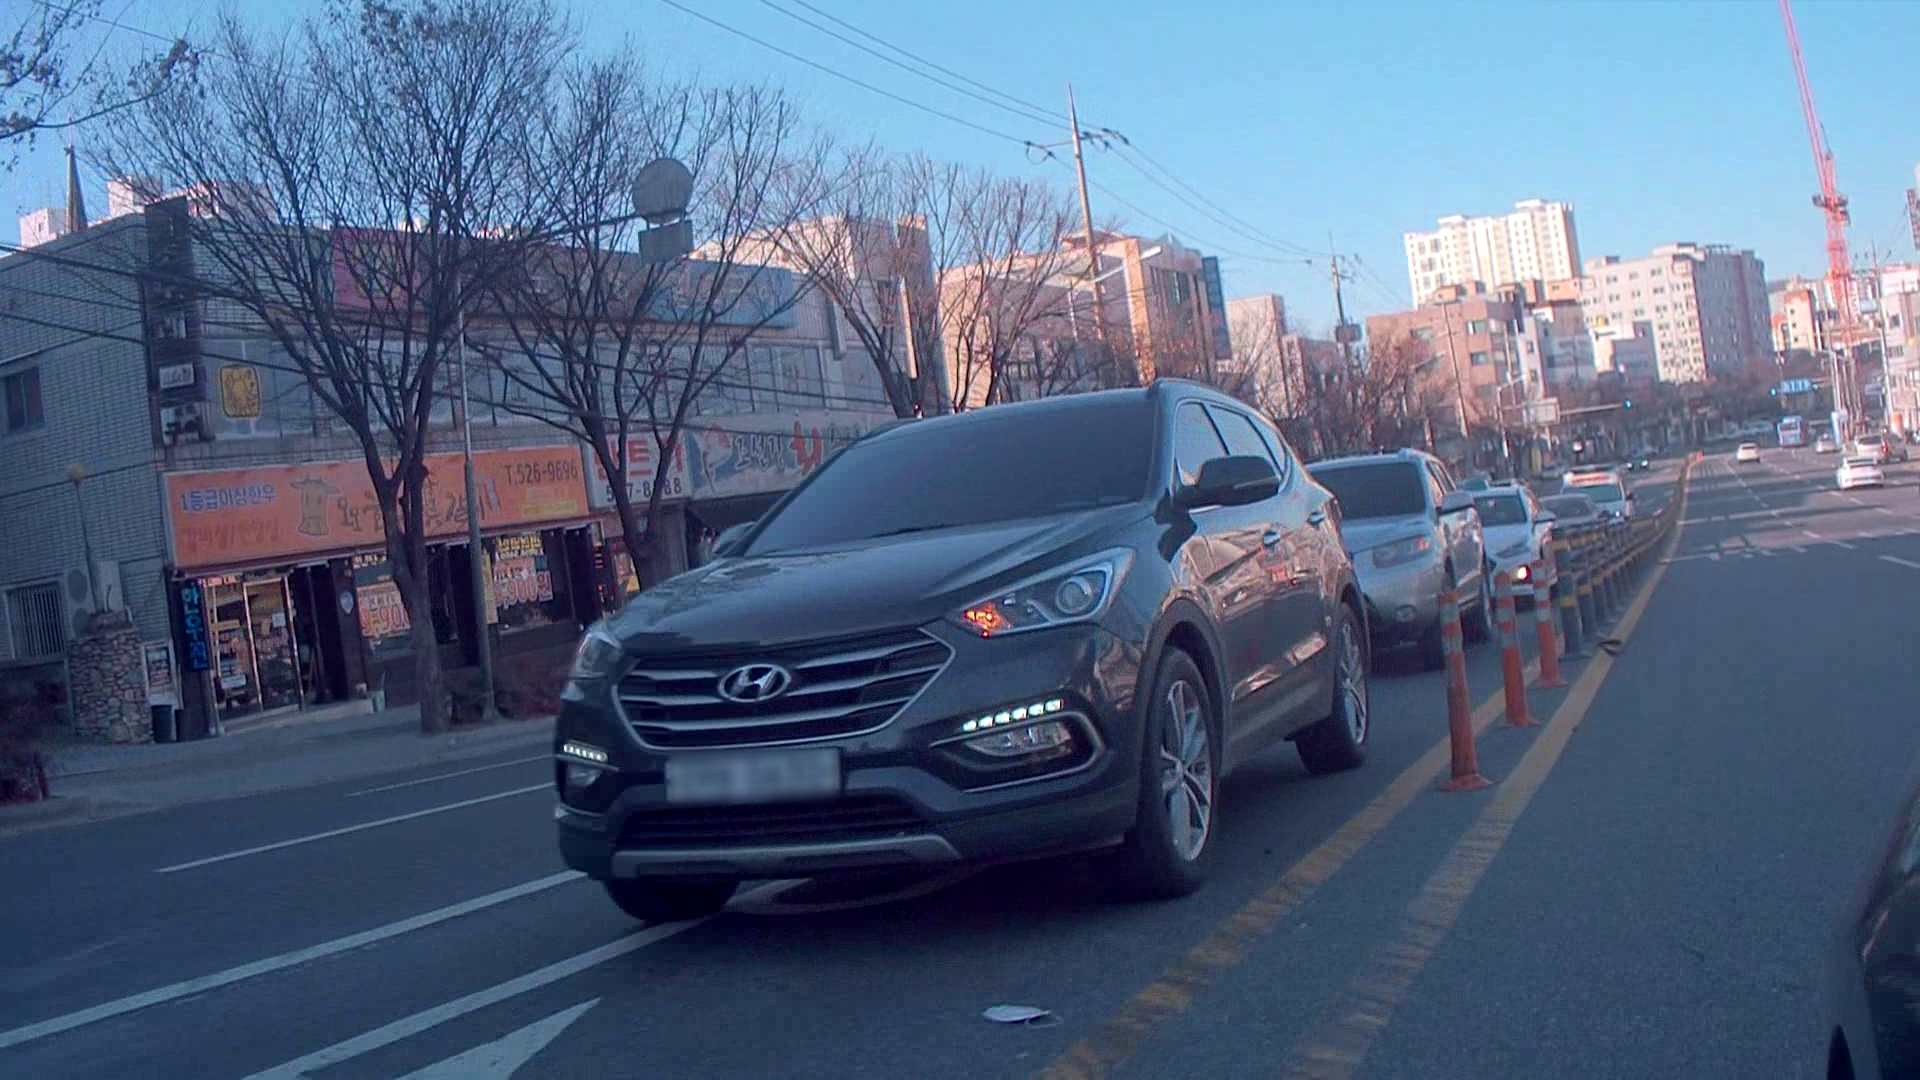trafficSignCircle: (630, 158, 692, 225)
